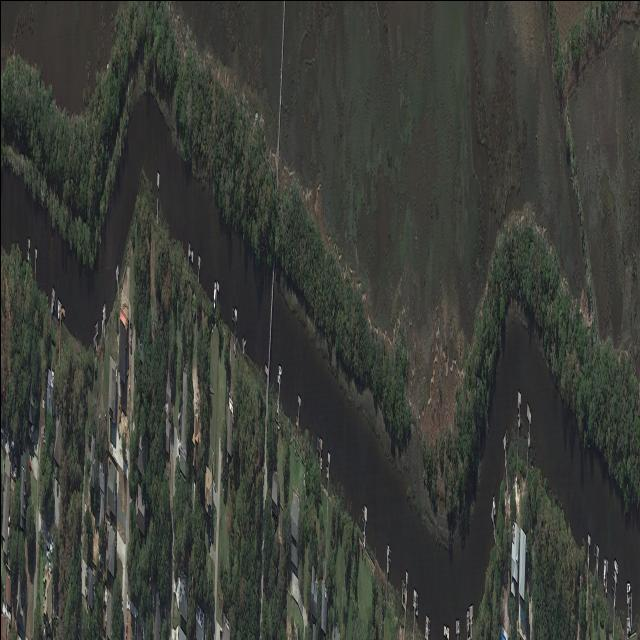ship: (212, 279, 216, 313), (602, 556, 605, 590), (613, 557, 617, 575), (56, 297, 59, 320), (492, 494, 495, 516), (277, 362, 281, 375), (626, 580, 630, 592)
small-vehicle: (125, 620, 127, 639), (120, 598, 122, 616), (177, 441, 180, 453), (45, 538, 48, 549), (98, 553, 101, 563), (46, 548, 48, 560)
